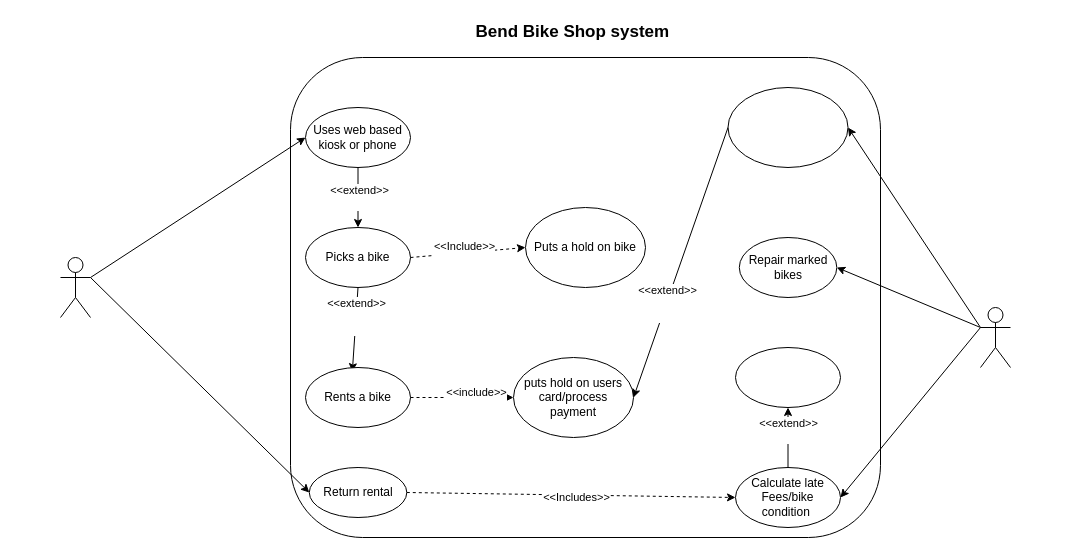
Some shapes in this 1068 by 555 pixel diagram are drawn without their labels. The box of each missing label's shape, as (x1, y1, x2, y2) in pixels:
Apply Discount: (727, 86, 848, 168)
Bike Rental Cusomter: (60, 256, 90, 318)
Bike Shop employee: (980, 306, 1010, 368)
Mark Bike for repair: (734, 346, 840, 408)
